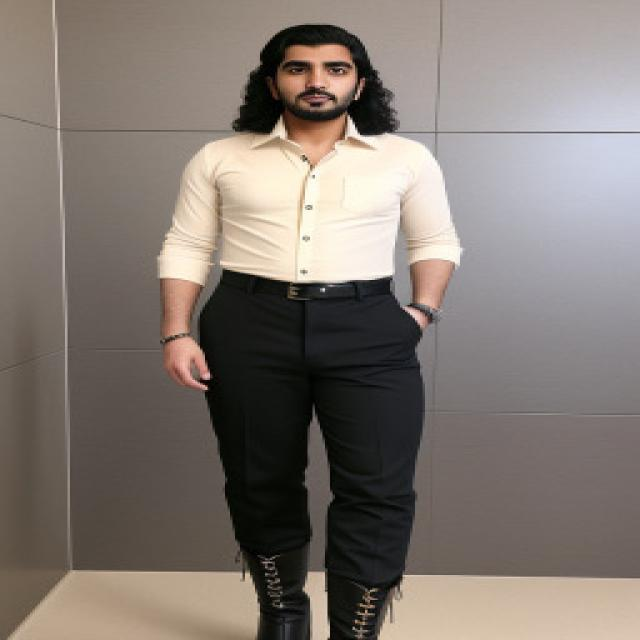Ai human 2: (132, 15, 468, 640)
